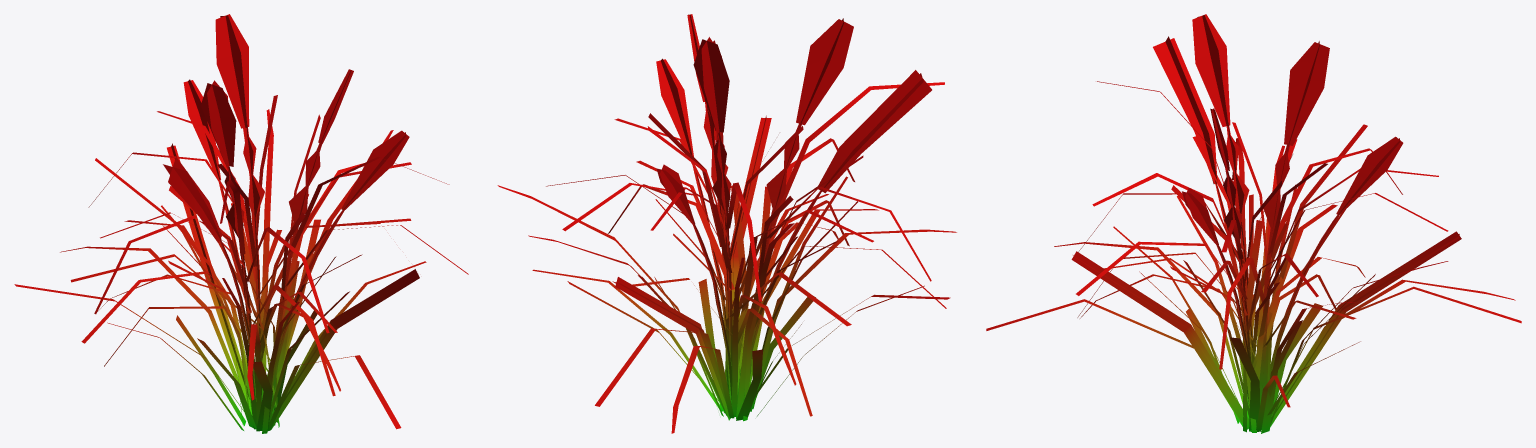
File: Basket Grass_LOD3_Var1_slfpffjr.fbx
3 renders of one model, left to right at view 1: azimuth 30°, elevation 25°; view 2: azimuth 150°, elevation 25°; view 3: azimuth 270°, elevation 25°, orthographic. The views are drawn at different scales.
Visible parts, largest first — view 1: _e9e9_Var1_LOD3; view 2: _e9e9_Var1_LOD3; view 3: _e9e9_Var1_LOD3.
Boxes of the visible parts, x1=… form: _e9e9_Var1_LOD3: x1=14, y1=14, x2=468, y2=433; _e9e9_Var1_LOD3: x1=497, y1=14, x2=956, y2=433; _e9e9_Var1_LOD3: x1=986, y1=14, x2=1521, y2=433.
Size of the model in its own units: 70.34 by 64.19 by 81.05.
